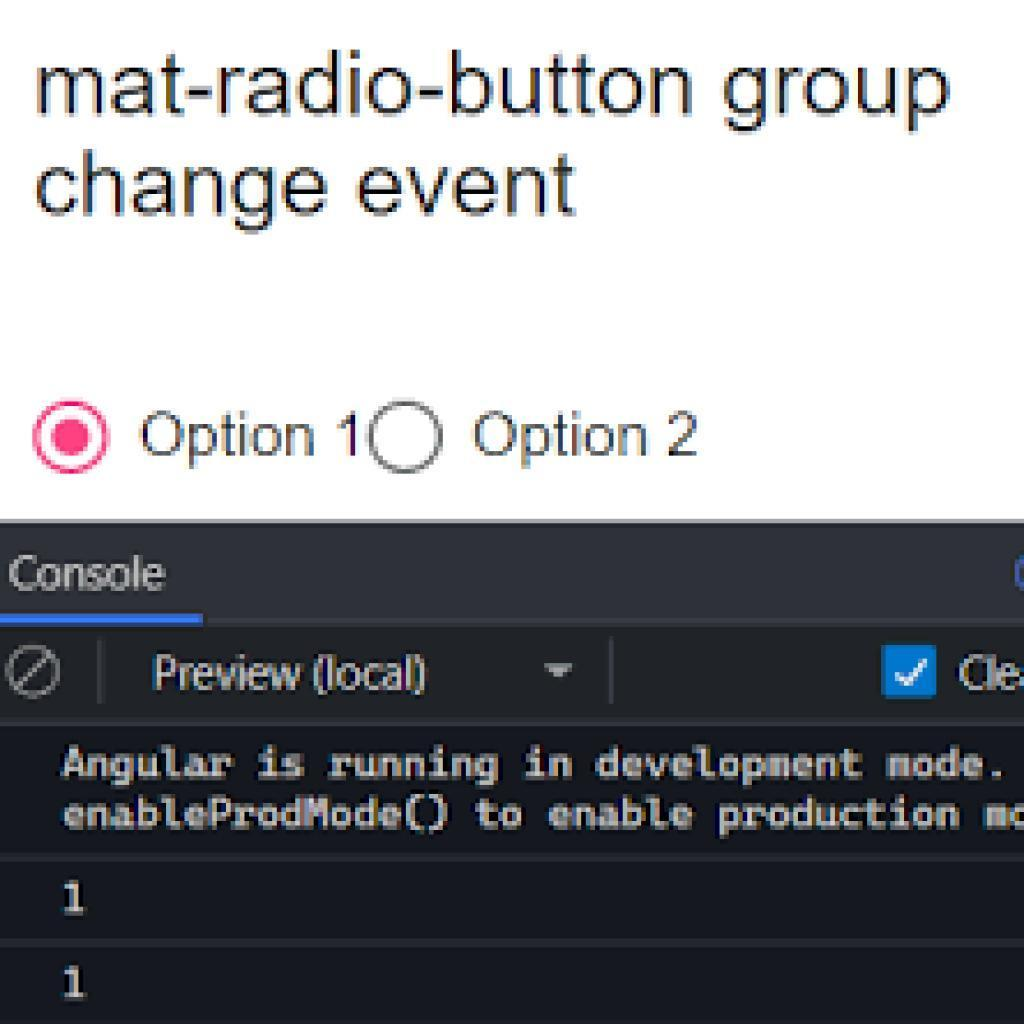checkbox: (880, 642, 941, 704)
icon: (10, 644, 65, 708), (544, 654, 578, 693)
label: (154, 648, 428, 710), (475, 401, 705, 473), (137, 404, 362, 476), (1, 549, 177, 598)
radio: (29, 398, 114, 480), (367, 395, 446, 480)
